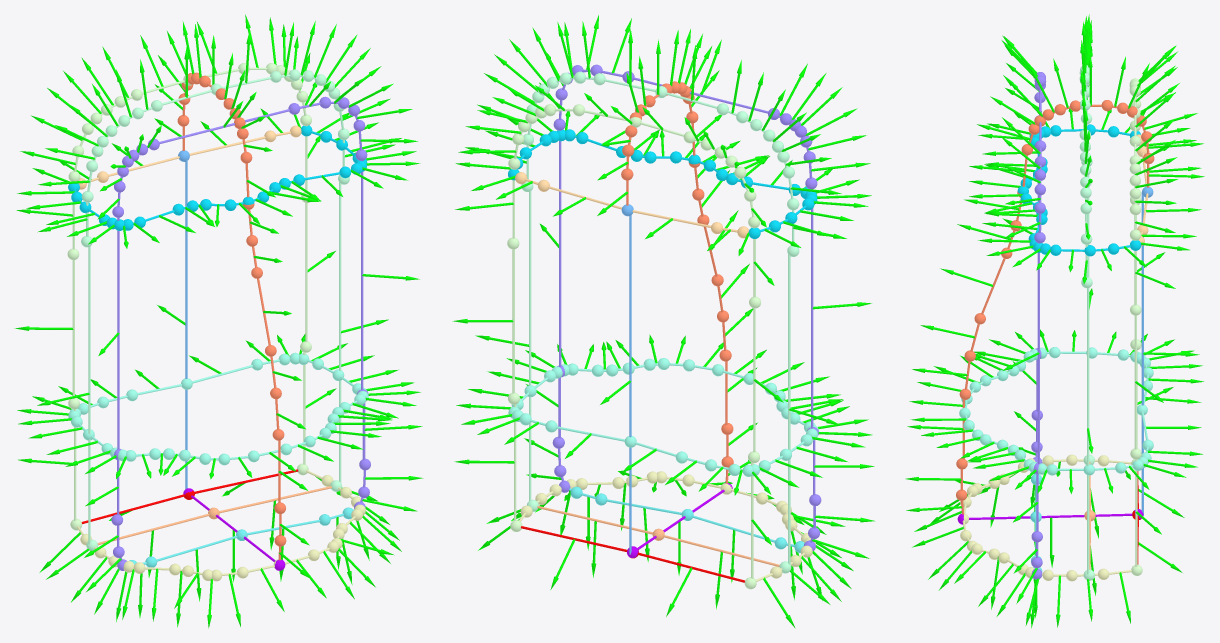
The picture shows the model from 3 angles, left to right: view 1: azimuth 30°, elevation 25°; view 2: azimuth 150°, elevation 25°; view 3: azimuth 270°, elevation 25°; orthographic projection. The views are drawn at different scales.
Size of the model in its own units: 0.6979 by 0.9999 by 0.5249.
